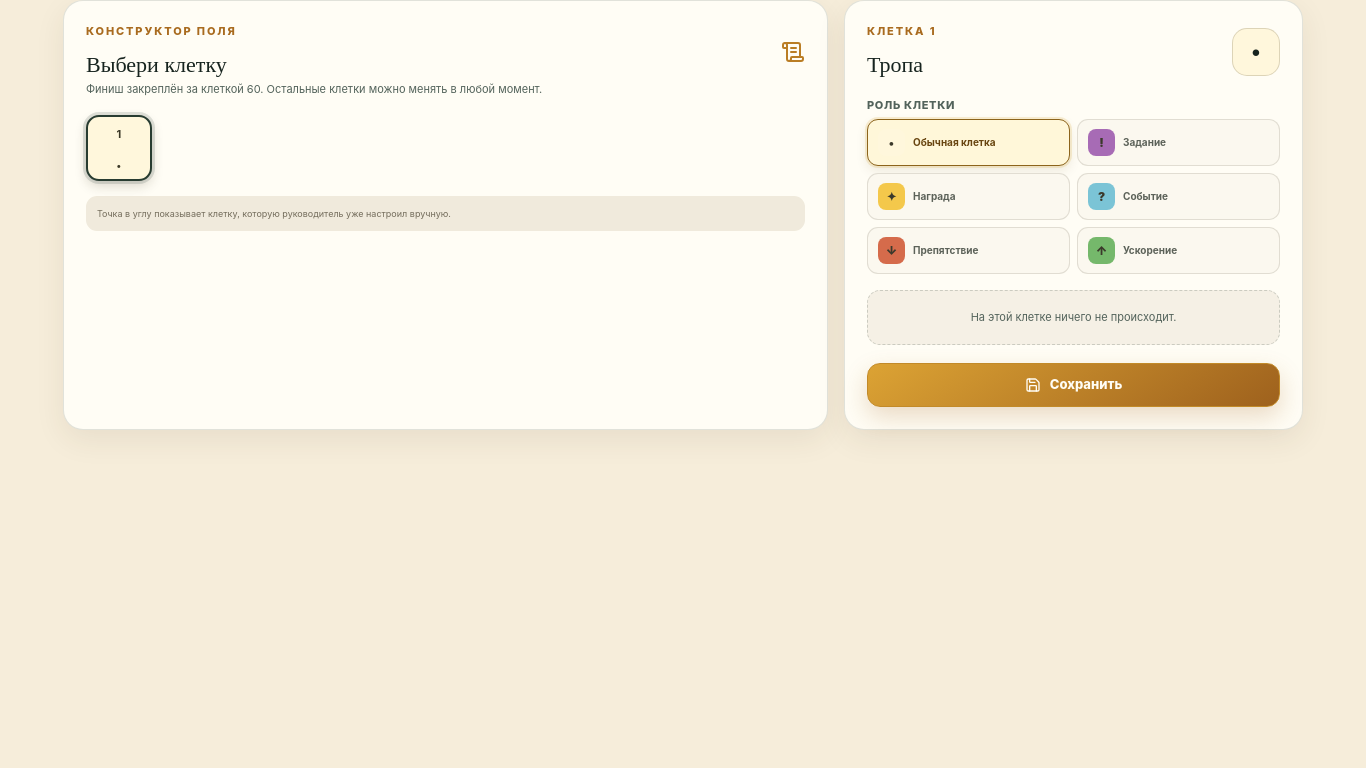
it: board cell editor › shows the relevant form immediately after changing the cell role
Click the button "✦ Награда" at (968, 196), box [867,173,1070,220]
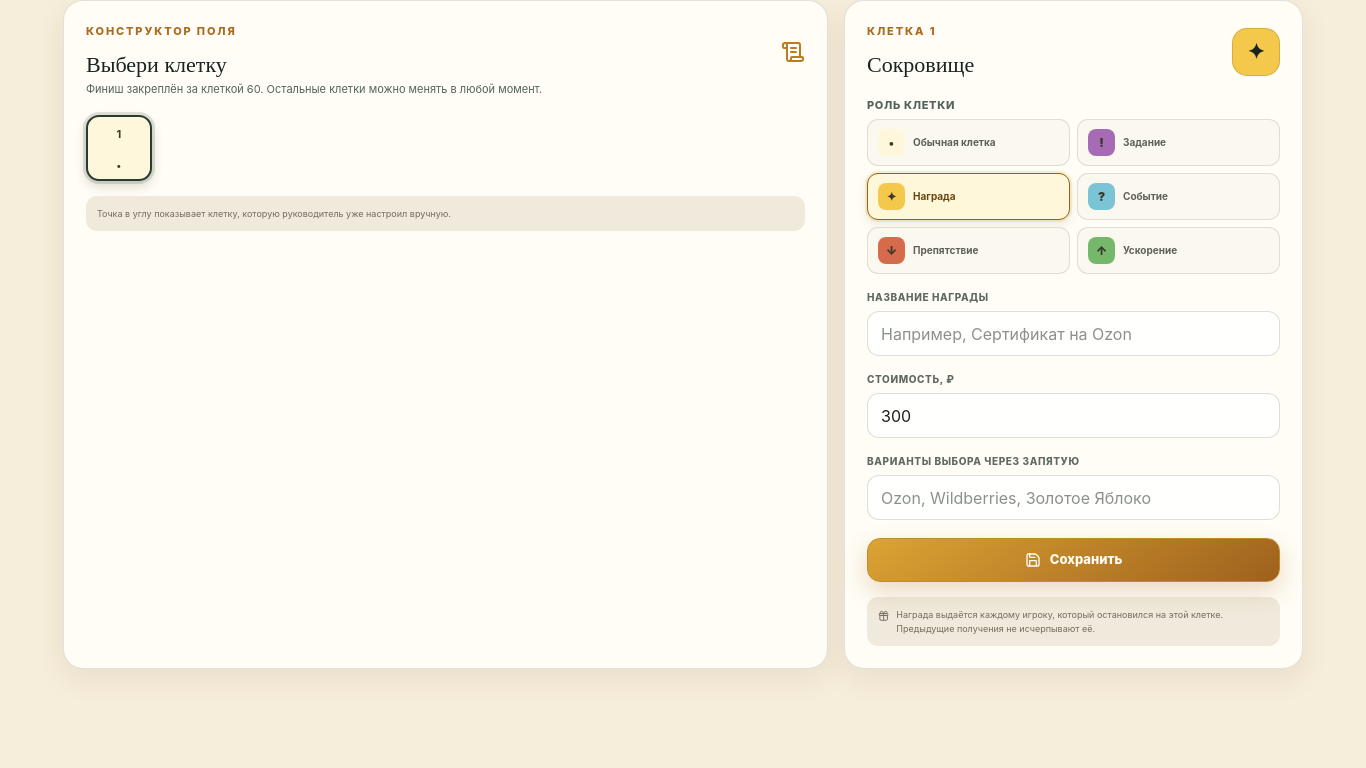
Now the heading "Сокровище" is shown, box [867,48,974,80]
Now the field labelled "Название награды" is shown, box [867,311,1280,356]
Click the button "! Задание" at (1178, 142), box [1077,119,1280,166]
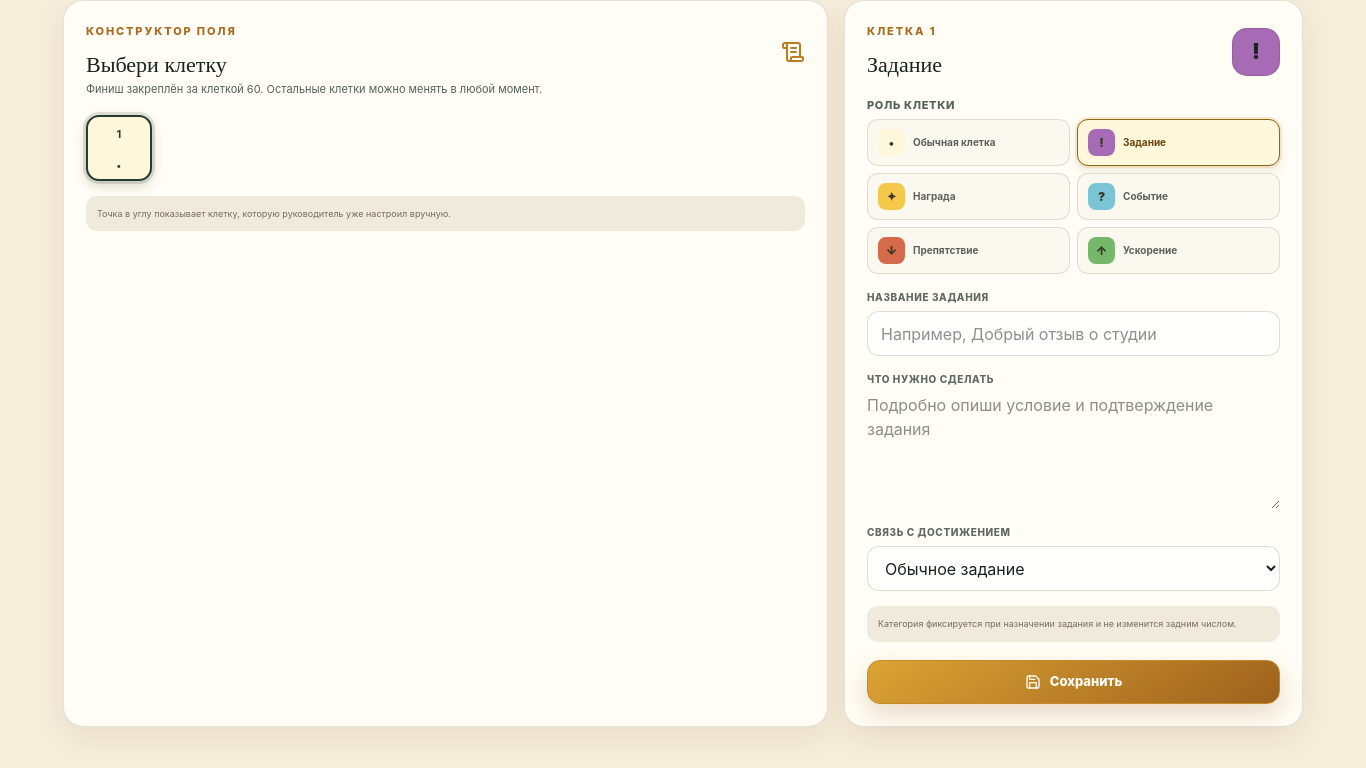
Now the heading "Задание" is shown, box [867,48,942,80]
Now the field labelled "Название задания" is shown, box [867,311,1280,356]
